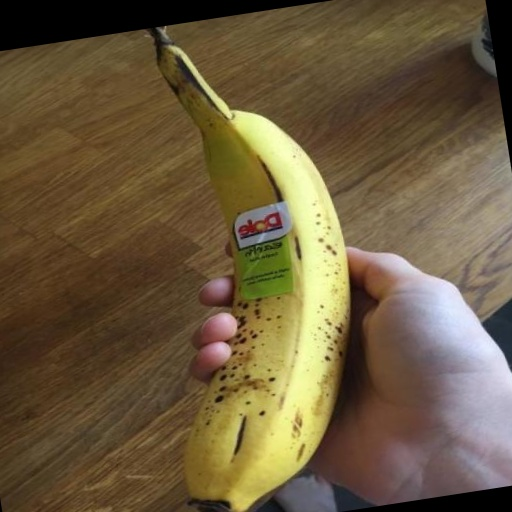fruit: (148, 27, 349, 512)
